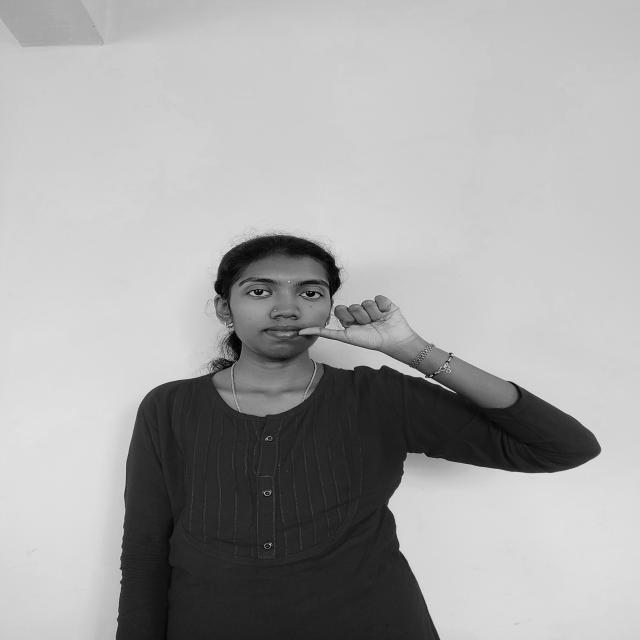Drink: (300, 292, 424, 354)
